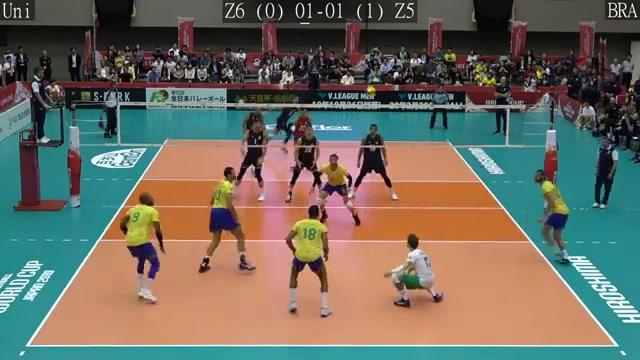ball: (367, 85, 375, 97)
